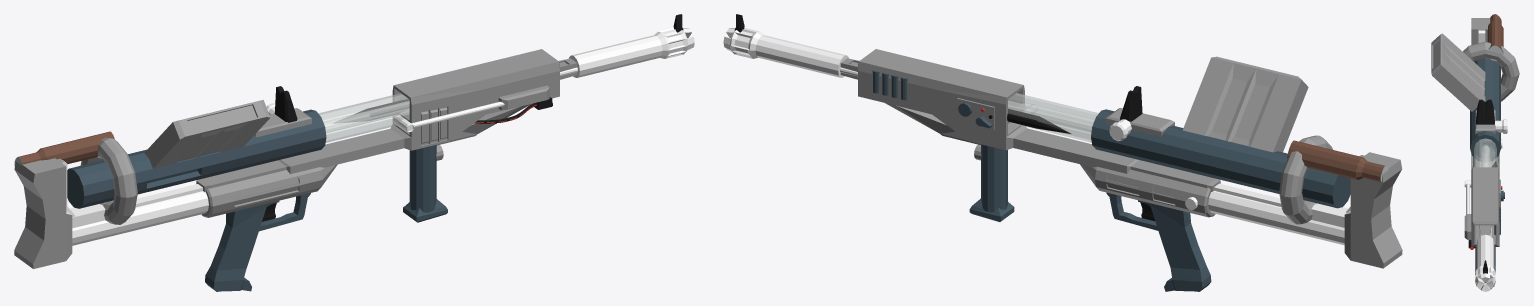
3 views of the same model, side by side, from view 1: azimuth 30°, elevation 25°; view 2: azimuth 150°, elevation 25°; view 3: azimuth 270°, elevation 25° (orthographic). The views are drawn at different scales.
Parts seen in each view (by area): view 1: group1444106915, group842207604, group918554143, group52382891, group497385985, group1142974232, group135960578, group1777393000, group763080554, group1597803463, group1803587080, group935516115 (+7 smaller); view 2: group1444106915, group842207604, group497385985, group918554143, group52382891, group1142974232, group135960578, group1777393000, group1803587080, group763080554, group1597803463, group935516115 (+6 smaller); view 3: group497385985, group1444106915, group842207604, group763080554, group135960578, group1777393000, group1803587080, group52382891, group84442875, group1031863260, group1143055742, group1240724460 (+2 smaller).
Boxes of the visible parts, box(x1,y1,x2,y2) form: group1444106915: box(196, 49, 577, 192); group842207604: box(67, 109, 326, 208); group918554143: box(72, 167, 322, 245); group52382891: box(14, 158, 75, 268); group497385985: box(144, 100, 270, 168); group1142974232: box(205, 202, 274, 291); group135960578: box(569, 28, 694, 77); group1777393000: box(318, 93, 409, 142); group763080554: box(80, 137, 137, 224); group1597803463: box(409, 144, 436, 212); group1803587080: box(14, 131, 114, 165); group935516115: box(70, 184, 202, 228); group1444106915: box(840, 49, 1220, 191); group842207604: box(1091, 109, 1350, 208); group497385985: box(1183, 56, 1308, 152); group918554143: box(1095, 166, 1344, 245); group52382891: box(1344, 152, 1402, 268); group1142974232: box(1143, 201, 1211, 291); group135960578: box(723, 28, 848, 77); group1777393000: box(1008, 93, 1098, 142); group1803587080: box(1287, 140, 1388, 182); group763080554: box(1279, 135, 1332, 224); group1597803463: box(981, 144, 1007, 212); group935516115: box(1214, 183, 1348, 227); group497385985: box(1431, 33, 1485, 111); group1444106915: box(1464, 159, 1499, 246); group842207604: box(1470, 59, 1500, 161); group763080554: box(1463, 41, 1519, 101); group135960578: box(1475, 234, 1495, 291); group1777393000: box(1474, 138, 1496, 167); group1803587080: box(1487, 14, 1503, 61); group52382891: box(1471, 18, 1490, 44); group84442875: box(1476, 99, 1494, 124); group1031863260: box(1475, 110, 1495, 134); group1143055742: box(1495, 119, 1507, 133); group1240724460: box(1466, 183, 1469, 214).
Size of the model in its own units: 4.26 by 1.31 by 0.6585.
